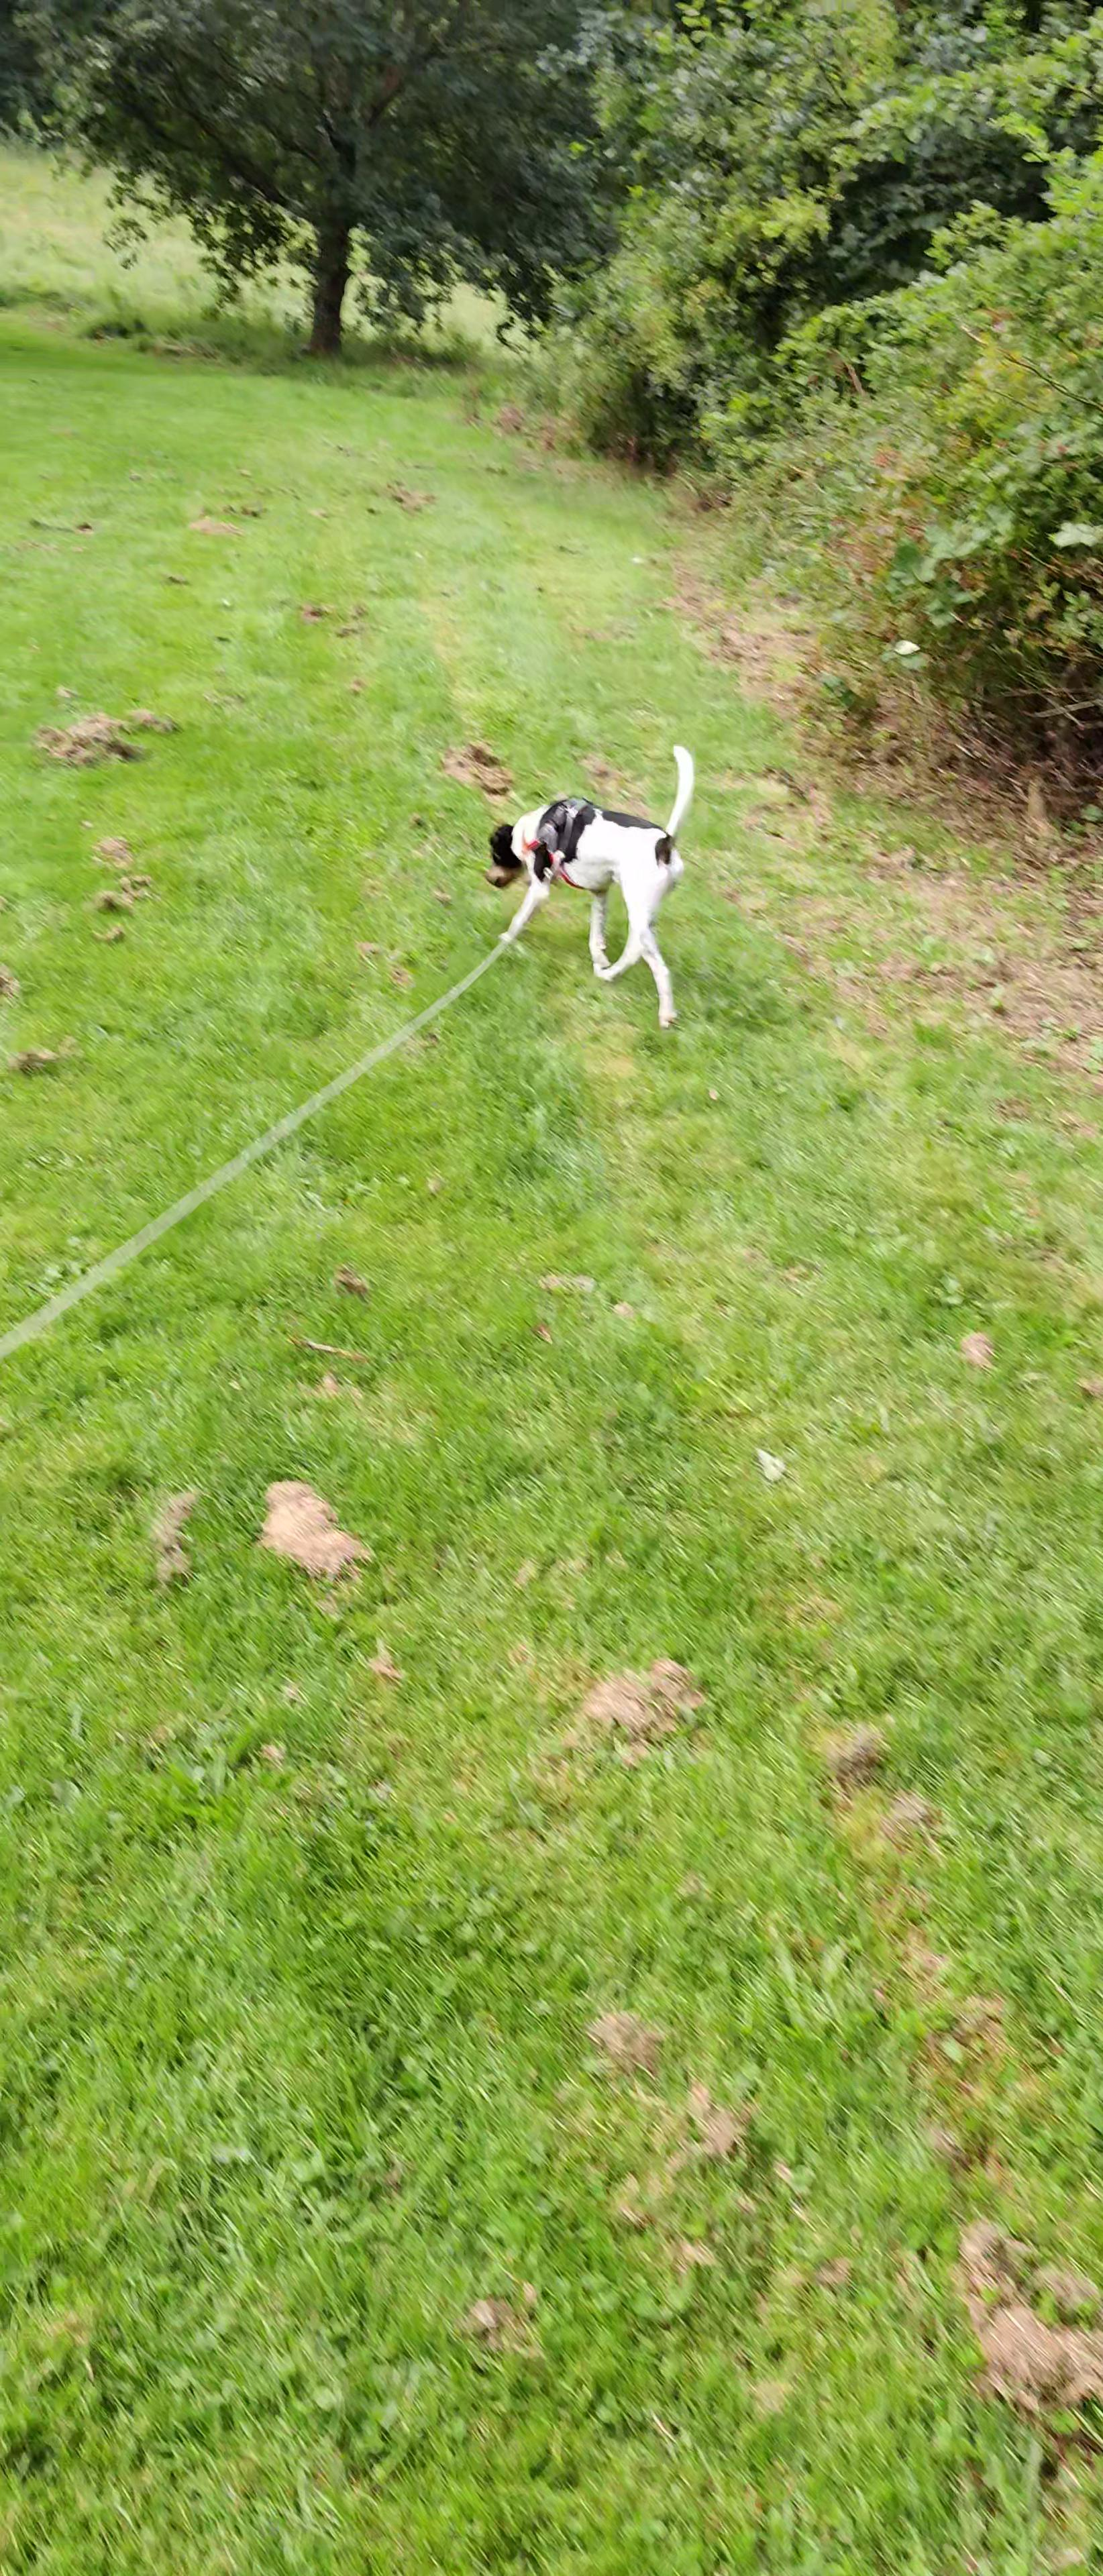Dog: (480, 736, 708, 1028)
